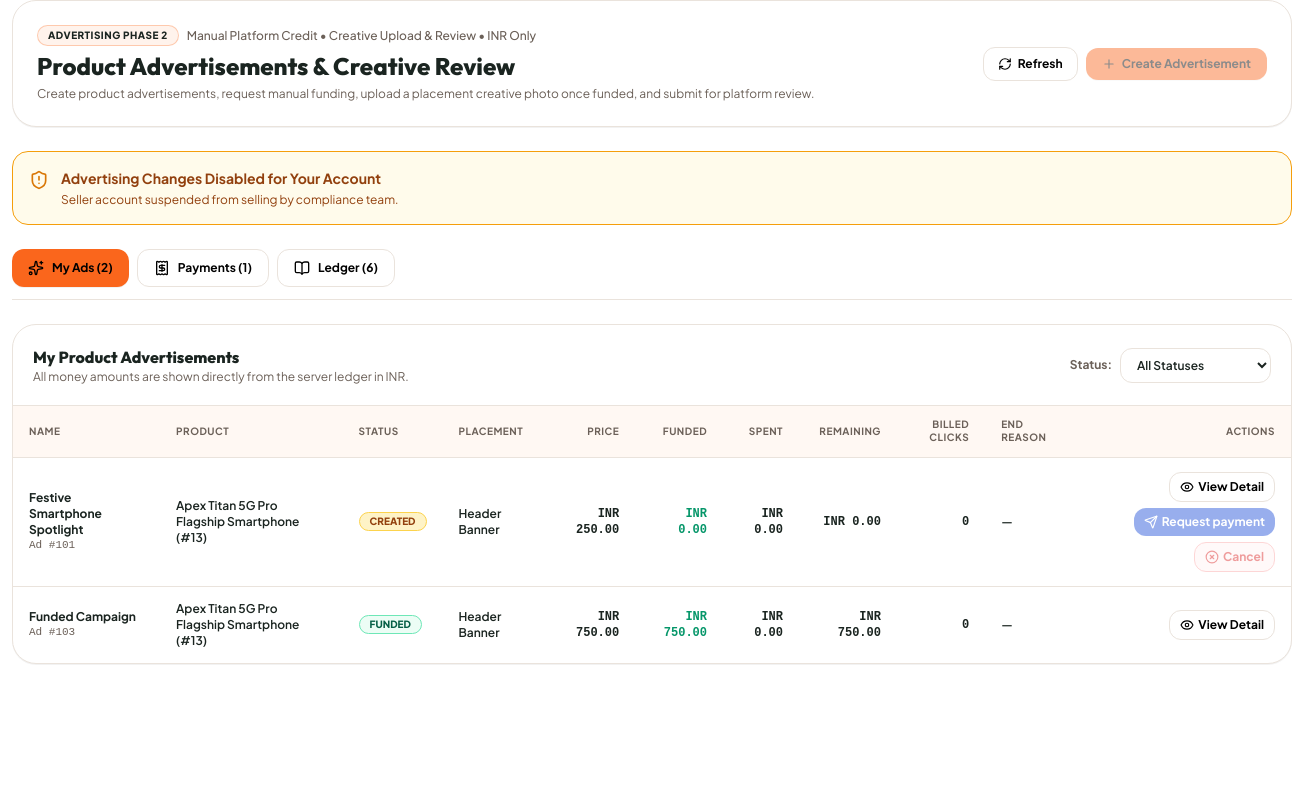
Test: Advertising Phase 1 & Phase 2 Screens (Seller & Admin) › SellerAdvertisingView › disables create, request-payment, cancel, upload, and submit actions with the server reason when seller cannot sell (may_sell === false)
Expected: the row with test id "seller-ad-row-101" is shown, x1=13 y1=458 x2=1291 y2=586
Expected: the message with test id "seller-advertising-restriction-banner" is shown, x1=12 y1=151 x2=1291 y2=225
Click the button with test id "seller-view-ad-btn-101" at (1222, 487), box x1=1169 y1=472 x2=1275 y2=502
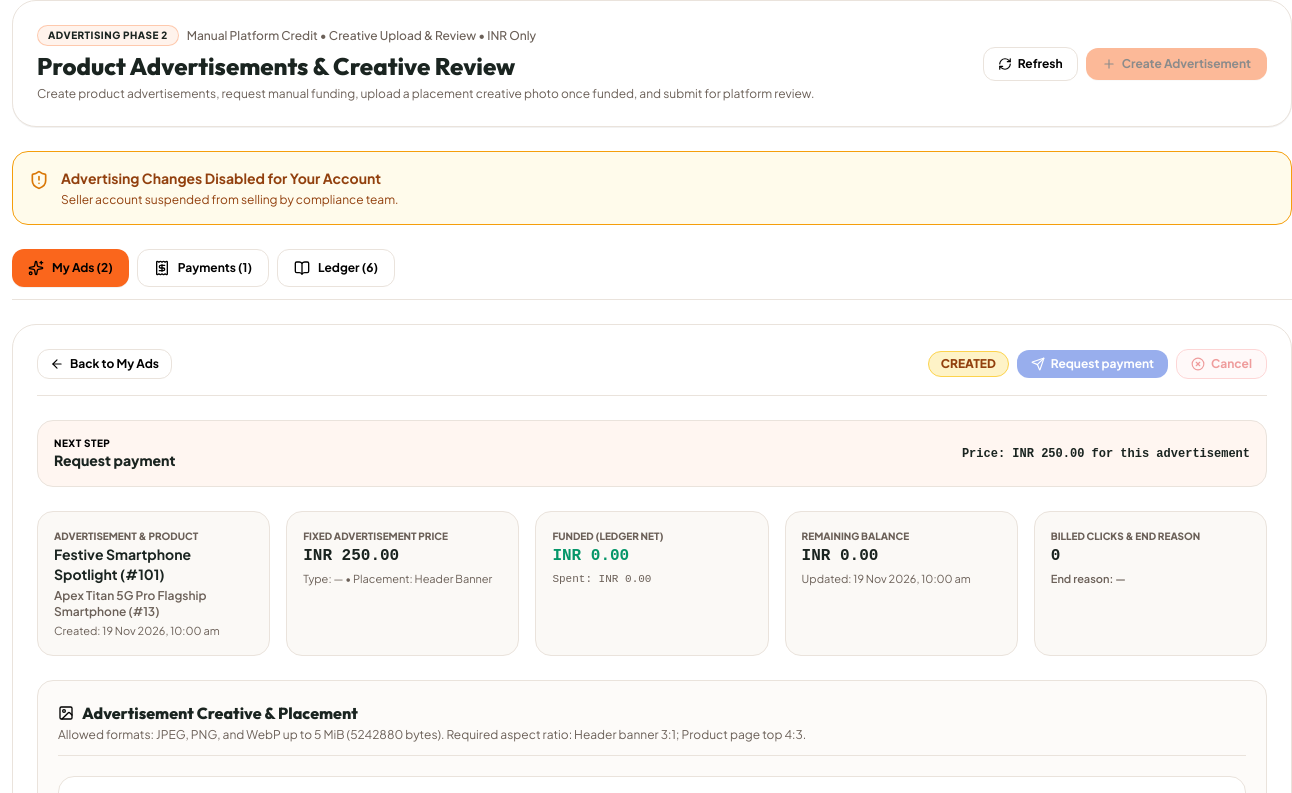
Click the button with test id "seller-ad-detail-back-btn" at (104, 364), box x1=37 y1=349 x2=172 y2=379
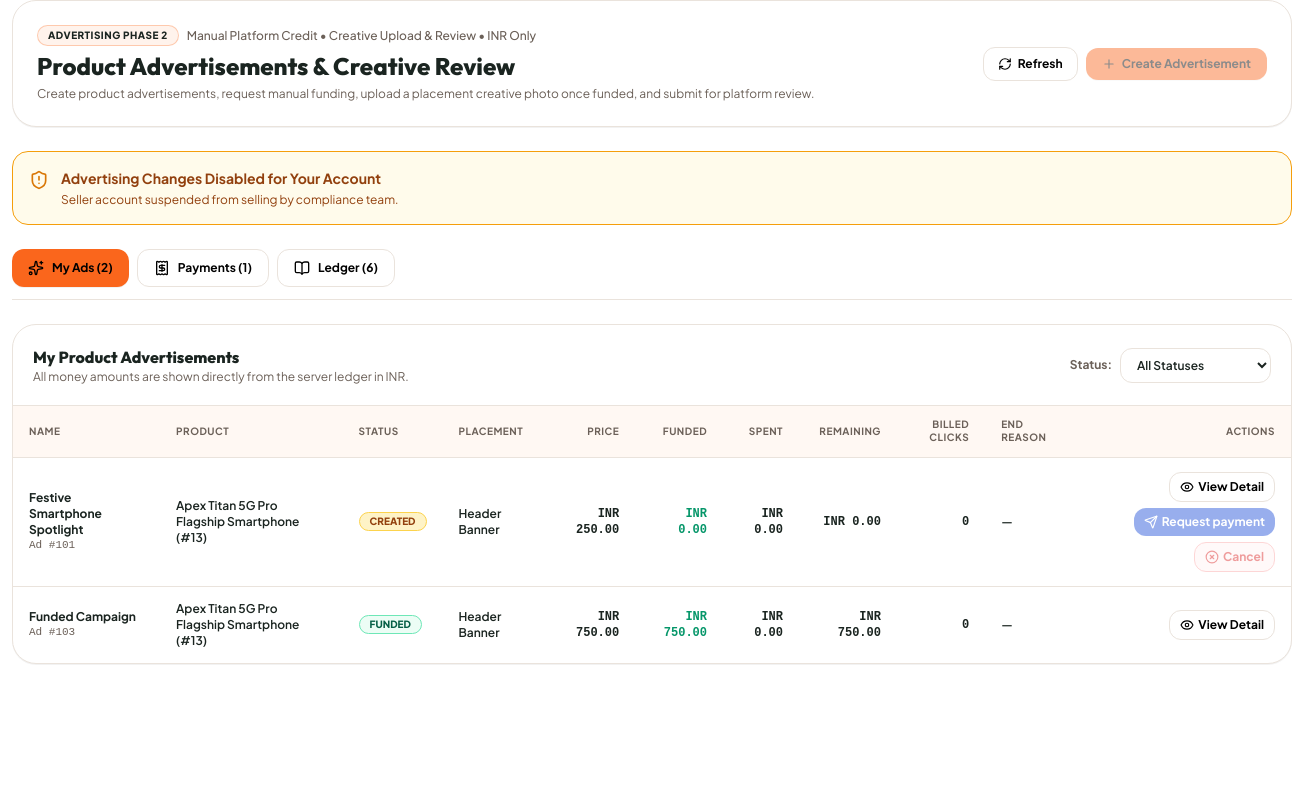
Now the button with test id "seller-view-ad-btn-103" is shown
Click the button with test id "seller-view-ad-btn-103" at (1222, 625), box x1=1169 y1=610 x2=1275 y2=640
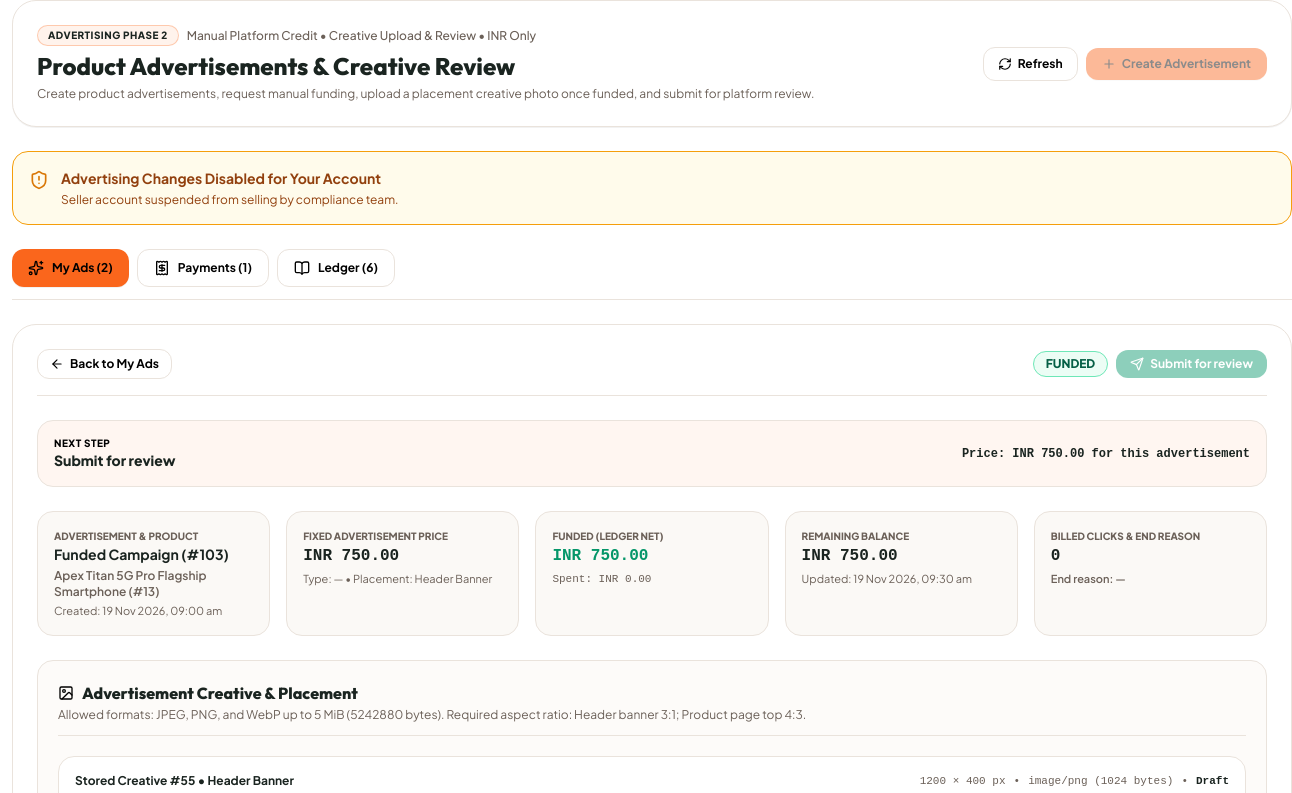
Now the button with test id "seller-submit-for-review-btn" is disabled, box x1=1116 y1=350 x2=1267 y2=378
